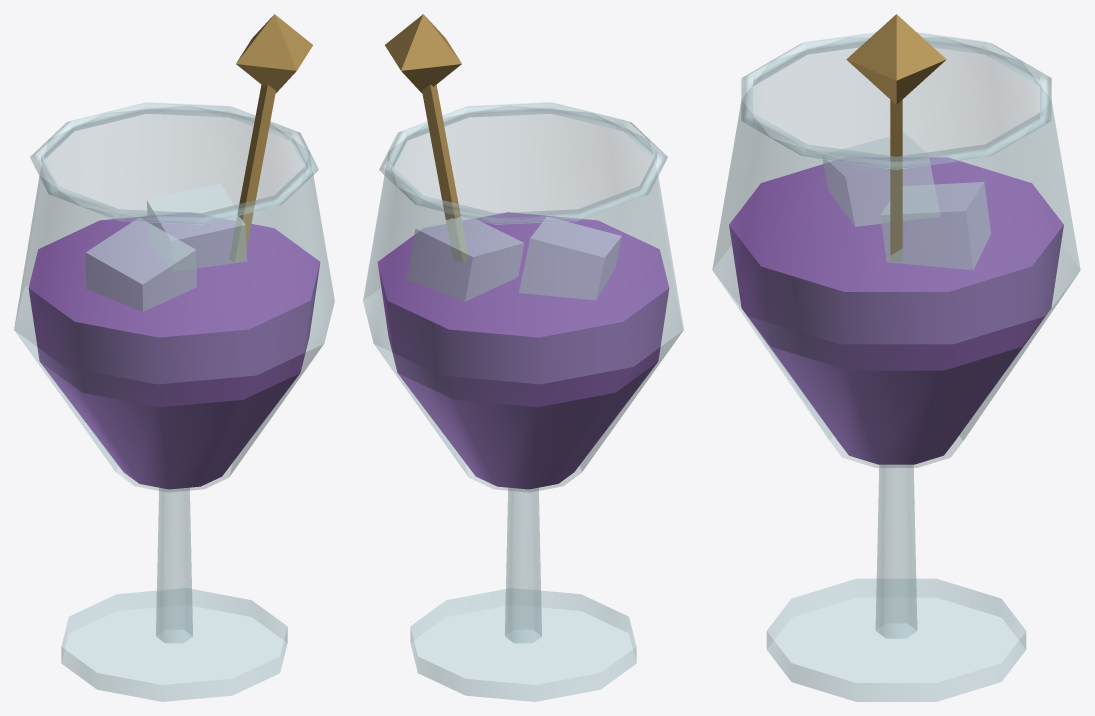
Rendered from saturday-special.glb.
3 views of the same model, side by side, from view 1: azimuth 30°, elevation 25°; view 2: azimuth 150°, elevation 25°; view 3: azimuth 270°, elevation 25° (orthographic). The views are drawn at different scales.
Parts seen in each view (by area): view 1: saturday-special; view 2: saturday-special; view 3: saturday-special.
Part boxes in pixels (x1,y1,x2,y2): saturday-special: [14, 14, 334, 701]; saturday-special: [363, 14, 683, 701]; saturday-special: [712, 14, 1080, 701].
Size of the model in its own units: 0.0848 by 0.182 by 0.088.
